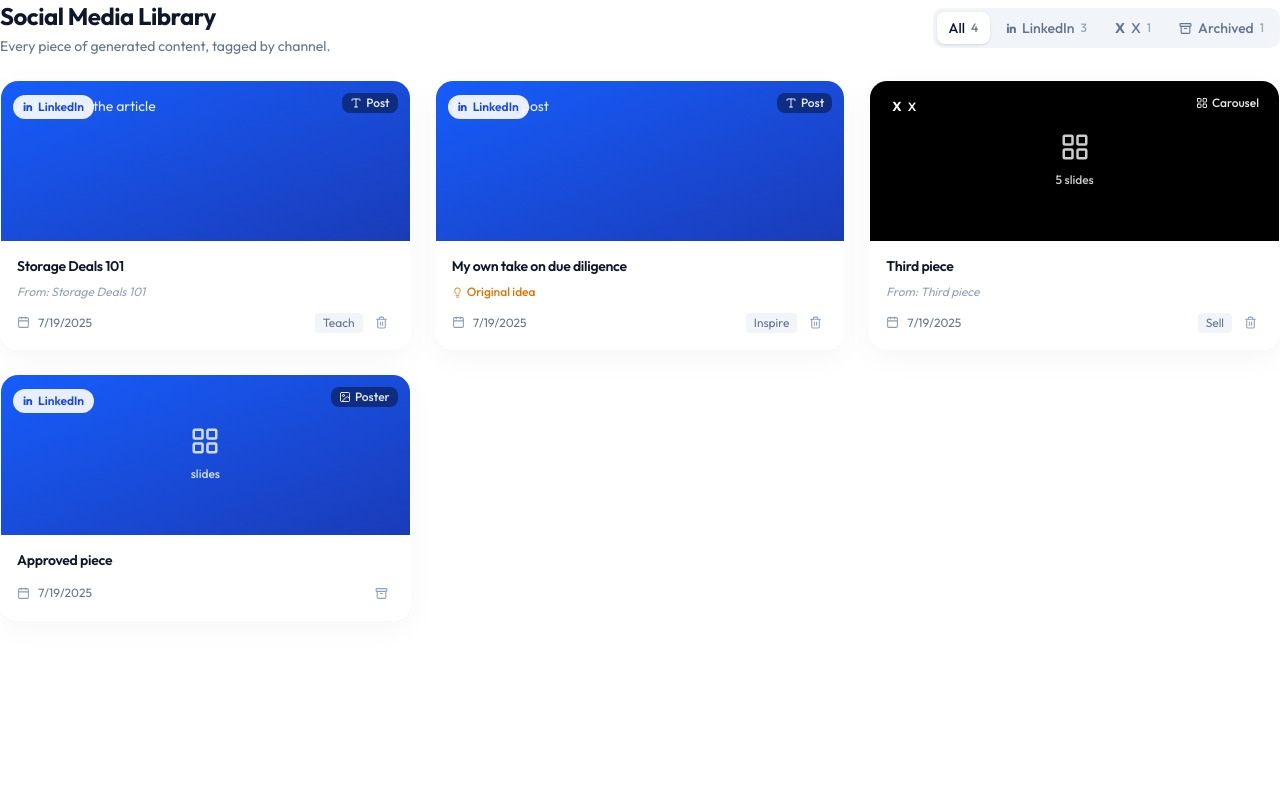
it: SocialLibrary › offers archive (not delete) on approved assets, behind a confirm dialog
Expected: the heading "Approved piece" is shown, [17,551,112,569]
Click the button named "Archive" at [381, 593], box [369,582,394,604]
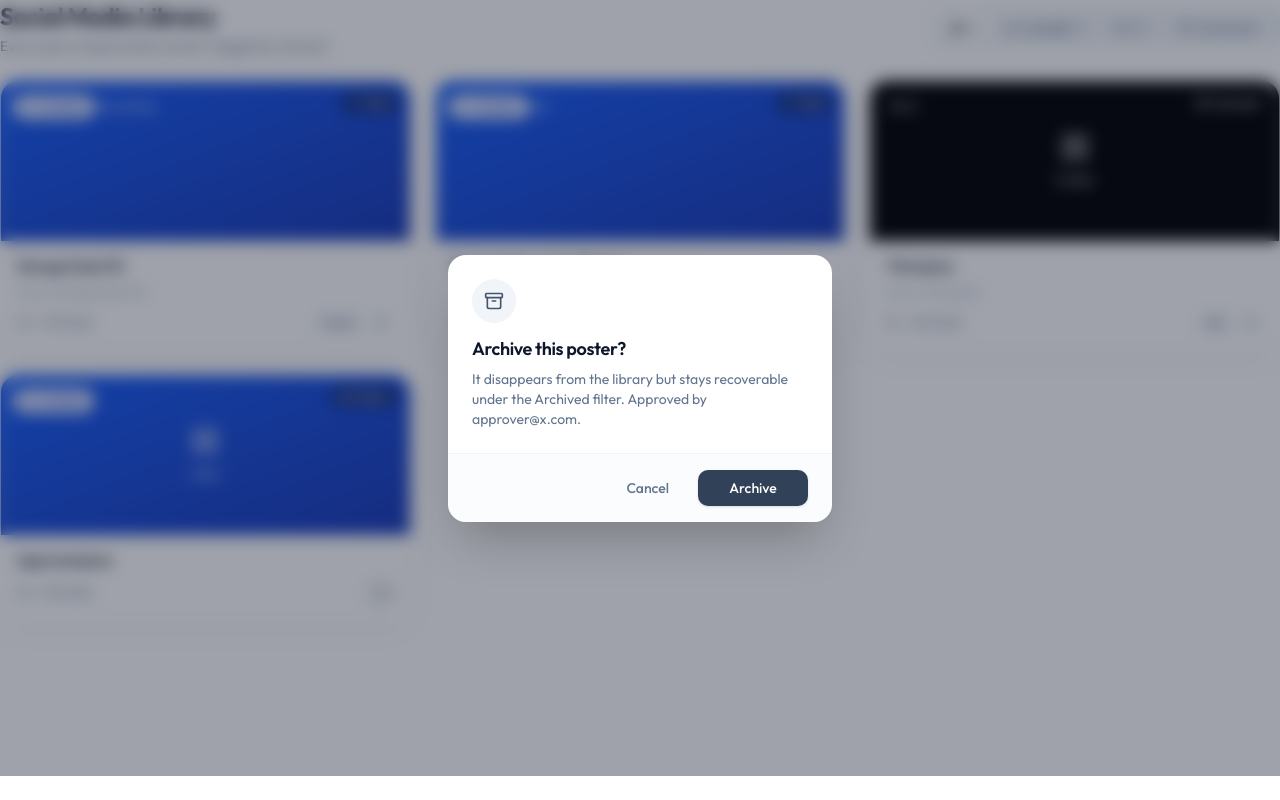
Expected: the text "approver@x.com" is shown, [472,370,788,428]
Click the button "Archive" at [753, 488], box [698,470,808,506]
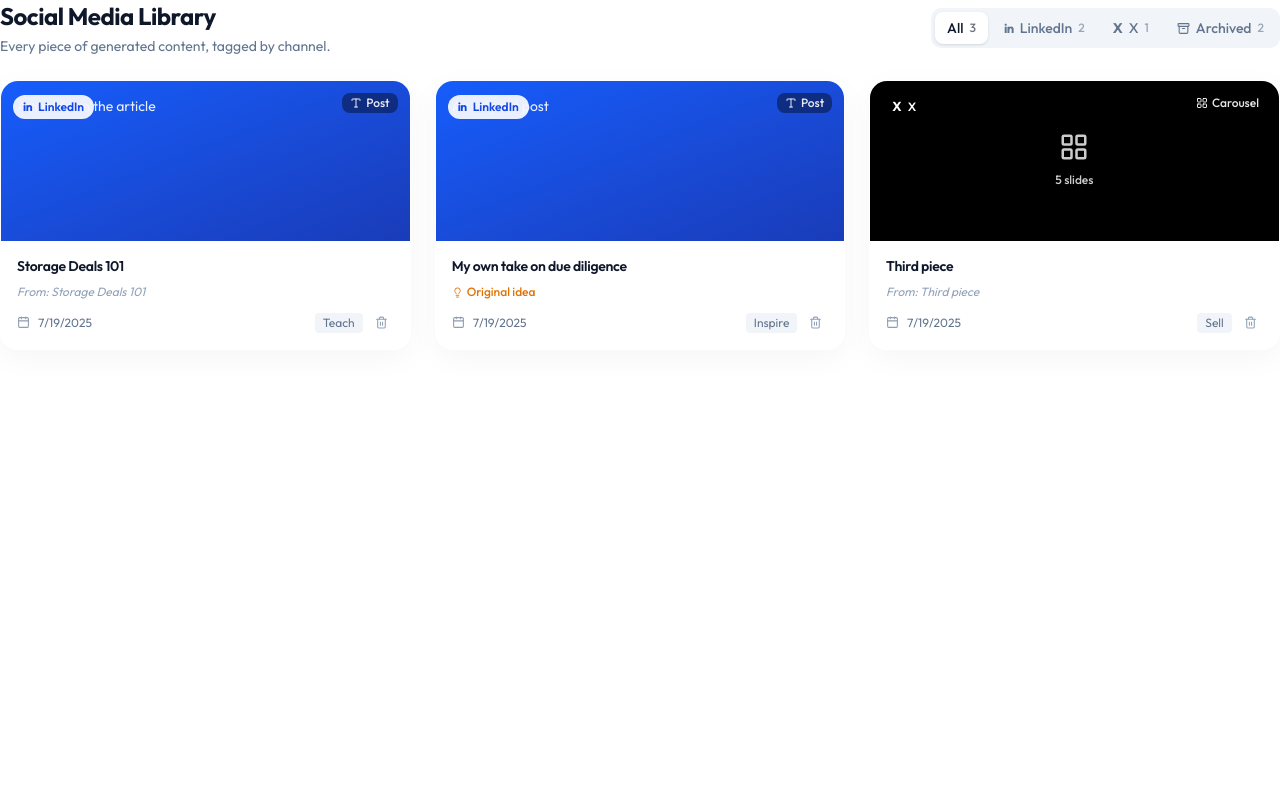
Expected: the heading "Approved piece" is gone
